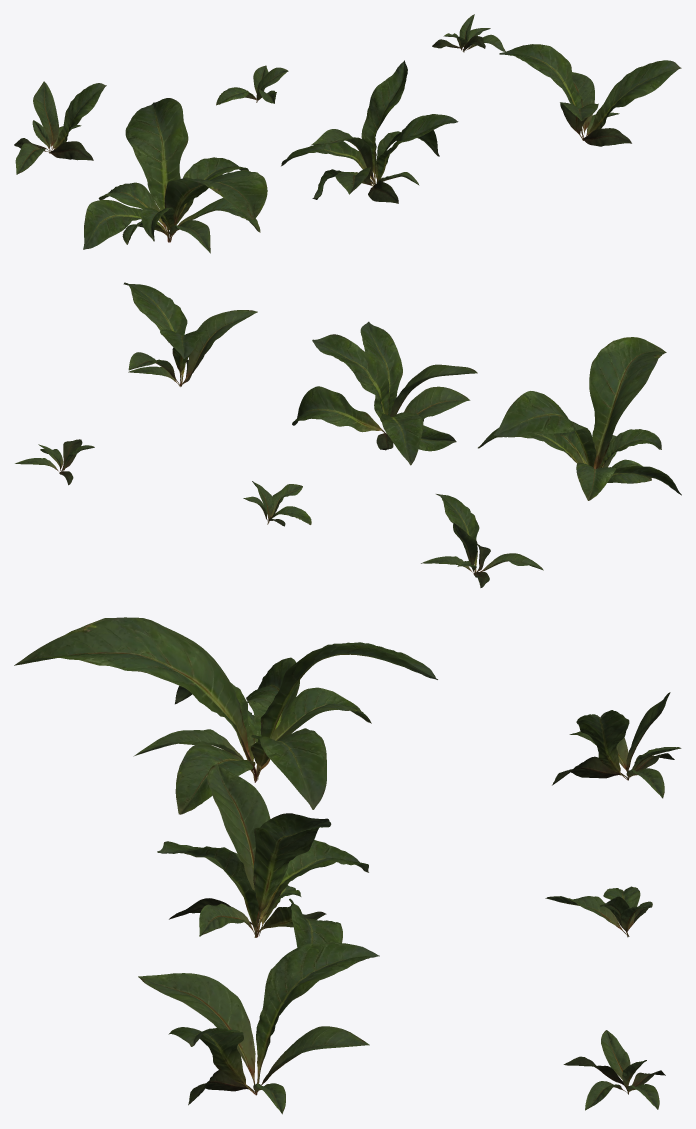
Rendered from anthurium.glb.
3 views of the same model, one above another, from view 1: azimuth 30°, elevation 25°; view 2: azimuth 150°, elevation 25°; view 3: azimuth 270°, elevation 25° (orthographic). The views are drawn at different scales.
Visible parts, largest first — view 1: anthurium_botany_01_a; view 2: anthurium_botany_01_a; view 3: anthurium_botany_01_a.
Boxes of the visible parts, <box> form: anthurium_botany_01_a: <box>14,14,681,253</box>; anthurium_botany_01_a: <box>15,282,681,587</box>; anthurium_botany_01_a: <box>14,617,681,1114</box>.
Bounding box in the file's own units: 2.8 × 0.4994 × 1.8.
Materials: 1 (1 with a texture image).
